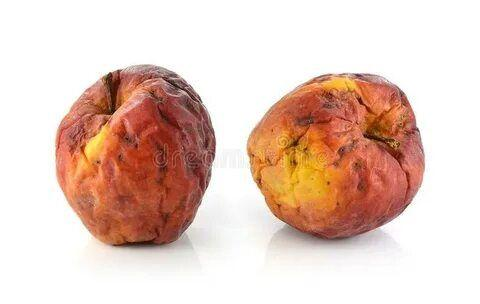Apple: (248, 77, 424, 241), (54, 64, 214, 244)
